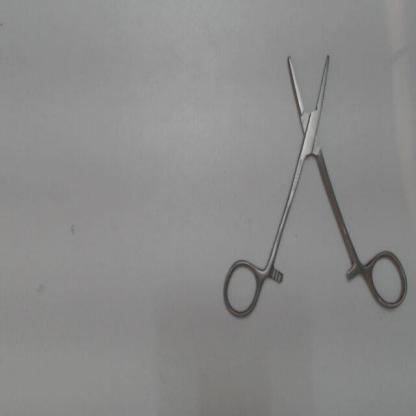Mayo Needle Holder: (216, 42, 414, 325)
